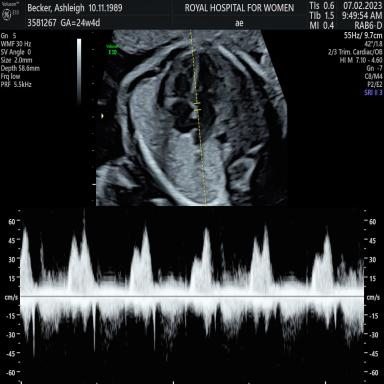Ultrasound-Waves: (25, 209, 362, 384)
